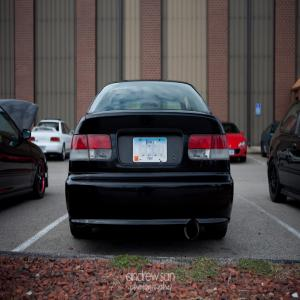Vehicle-registration-plate: (133, 139, 168, 165), (229, 150, 235, 158)
